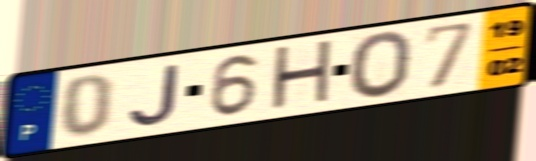0: (57, 71, 117, 141)
6: (209, 52, 261, 118)
7: (424, 18, 477, 91)
H: (267, 36, 336, 115)
J: (125, 61, 183, 129)
O: (348, 29, 416, 103)
